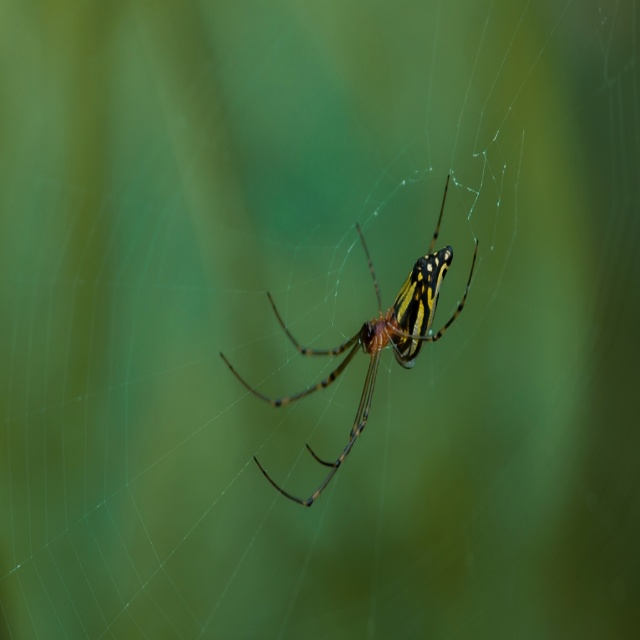Spider: (219, 173, 479, 505)
